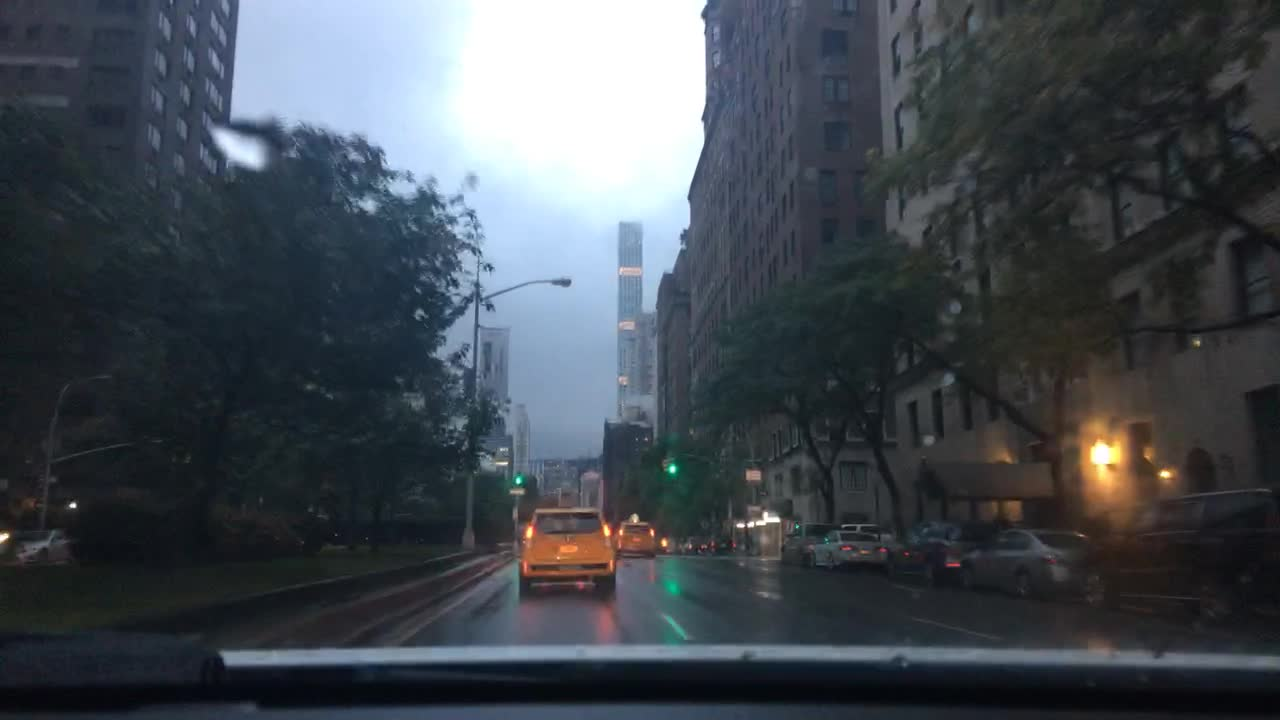car: (1084, 529, 1278, 633), (960, 528, 1096, 602), (516, 505, 616, 595), (891, 537, 970, 582), (809, 529, 888, 574), (10, 526, 78, 566), (780, 521, 842, 564), (613, 510, 657, 558), (840, 522, 900, 543), (707, 535, 736, 557), (653, 534, 670, 554), (684, 539, 698, 554), (699, 541, 708, 552)
traffic light: (662, 458, 673, 475), (514, 474, 523, 487), (668, 462, 676, 475), (792, 520, 800, 532)
traffic sign: (745, 467, 763, 480), (508, 489, 524, 496), (699, 519, 709, 530)
